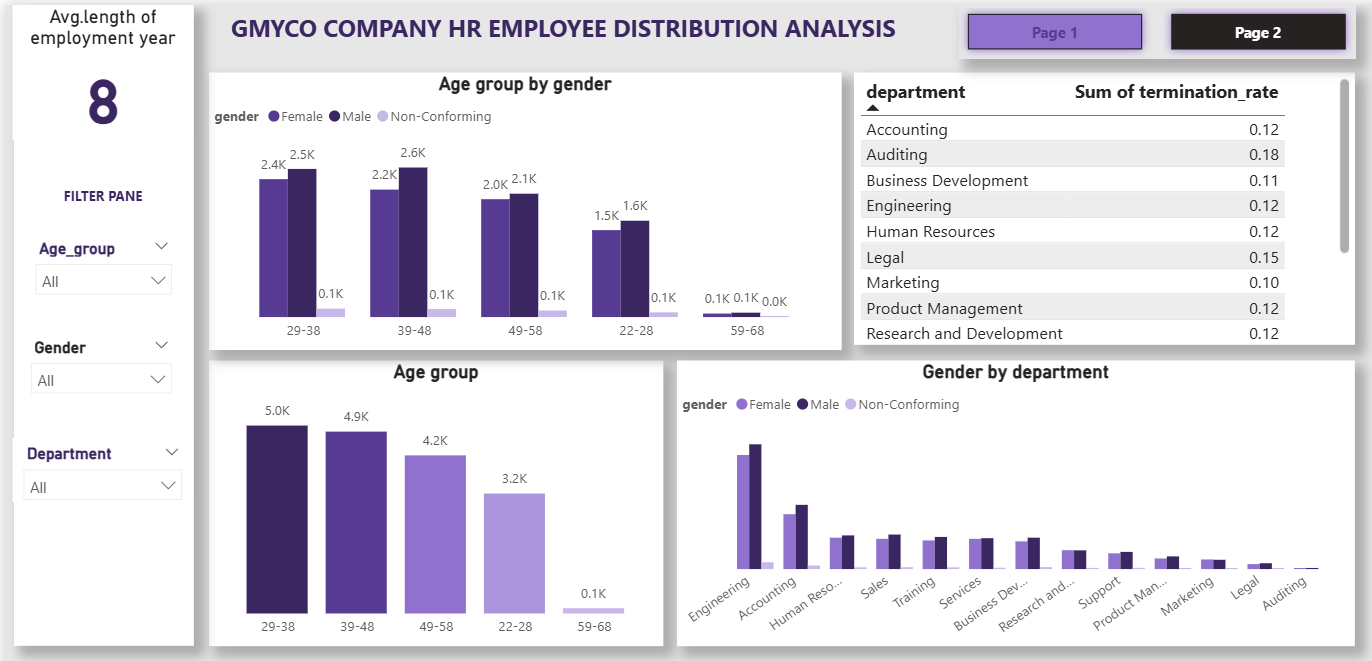

Layout of this report page (visuals, bound fields, positions):
{"tool":"powerbi","page":{"name":"Page 2","canvas":[1280,720],"ordinal":1},"visuals":[{"type":"clusteredColumnChart","title":"Age group","fields":{"Category":["AGE GROUP.age_group"],"Y":["Sum(AGE GROUP.count)"]},"box":[183.3,319.7,409.1,257.6],"z":0},{"type":"clusteredColumnChart","title":"Age group by gender","fields":{"Category":["AGE GROUP GENDER.age_group"],"Y":["Sum(AGE GROUP GENDER.count)"],"Series":["AGE GROUP GENDER.gender"]},"box":[183.3,60.6,569.7,250],"z":1000},{"type":"tableEx","fields":{"Values":["TURN_OVER_RATE.department","Sum(TURN_OVER_RATE.termination_rate)"]},"box":[765.2,60.6,451.5,245.5],"z":2000},{"type":"clusteredColumnChart","title":"Gender by department","fields":{"Y":["Sum(GENDER_DEPARTMENT.count)"],"Category":["GENDER_DEPARTMENT.department"],"Series":["GENDER_DEPARTMENT.gender"]},"box":[606.1,319.7,610.6,257.6],"z":3000},{"type":"textbox","box":[7.6,0,162.1,577.3],"z":4000},{"type":"textbox","box":[198.6,0,620,65.7],"z":5000},{"type":"card","title":"Avg.length of employment year","fields":{"Values":["Sum(AVG_LENGTH_EMPLOYMENT.avg_length_employment)"]},"box":[6.7,0,162.7,121.3],"z":6000},{"type":"textbox","box":[32,157.3,112,30.7],"z":7000},{"type":"slicer","fields":{"Values":["AGE GROUP.age_group"]},"box":[17.3,205.3,142.7,73.3],"z":8000},{"type":"slicer","fields":{"Values":["GENDER.gender"]},"box":[13.3,294.7,146.7,92],"z":9000},{"type":"slicer","fields":{"Values":["GENDER_DEPARTMENT.department"]},"box":[6.7,390.7,162.7,57.3],"z":10000},{"type":"pageNavigator","box":[859.1,0,357.6,48.5],"z":10001}]}

Visuals, with their boxes on the page's 1280x720 design canvas (x1, y1, x2, y2). These are canvas units, not pixel positions in the 1372x661 screenshot, which may show the page scaled, cropped or inside an application window:
"Age group" clusteredColumnChart: 183 320 592 577
"Age group by gender" clusteredColumnChart: 183 61 753 311
tableEx - TURN_OVER_RATE.department x Sum(TURN_OVER_RATE.termination_rate): 765 61 1217 306
"Gender by department" clusteredColumnChart: 606 320 1217 577
textbox: 8 0 170 577
textbox: 199 0 819 66
"Avg.length of employment year" card: 7 0 169 121
textbox: 32 157 144 188
slicer - AGE GROUP.age_group: 17 205 160 279
slicer - GENDER.gender: 13 295 160 387
slicer - GENDER_DEPARTMENT.department: 7 391 169 448
pageNavigator: 859 0 1217 48
